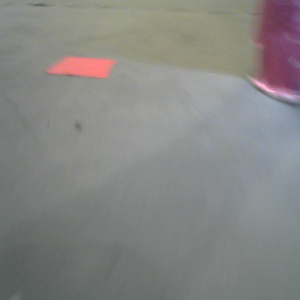right: (245, 1, 300, 108)
